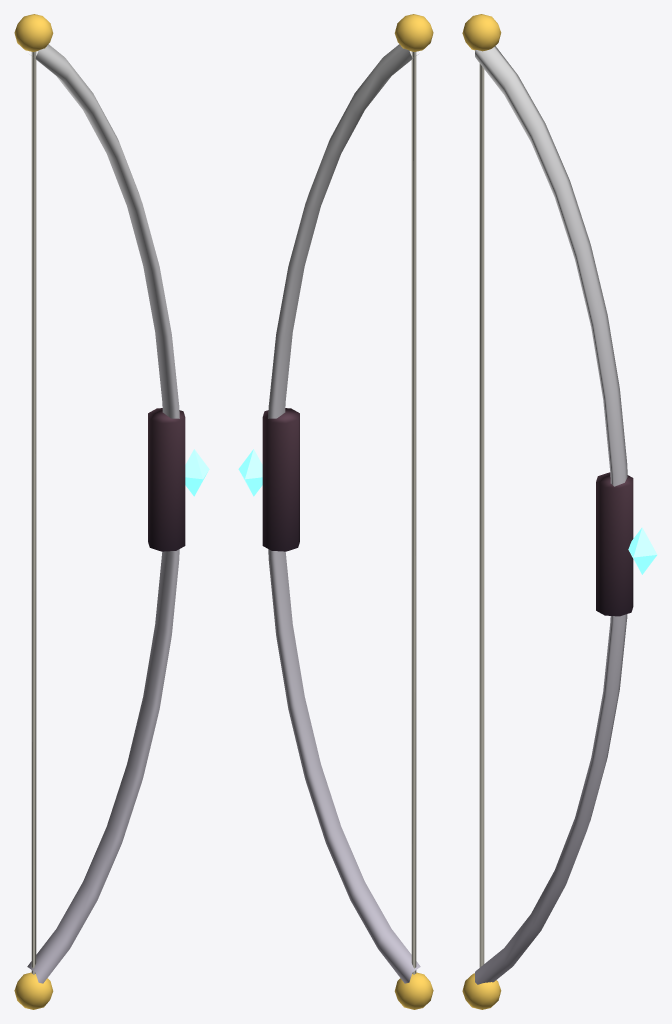
Rendered from bow_spirit.glb.
3 renders of one model, left to right at view 1: azimuth 30°, elevation 25°; view 2: azimuth 150°, elevation 25°; view 3: azimuth 330°, elevation 25°, orthographic.
Visible parts, largest first — view 1: bow_spirit; view 2: bow_spirit; view 3: bow_spirit.
Boxes of the visible parts, left/top/right/bottom form: bow_spirit: left=14, top=14, right=209, bottom=1009; bow_spirit: left=238, top=14, right=433, bottom=1009; bow_spirit: left=462, top=14, right=657, bottom=1009.
Bounding box in the file's own units: 0.2514 × 1.24 × 0.044.
